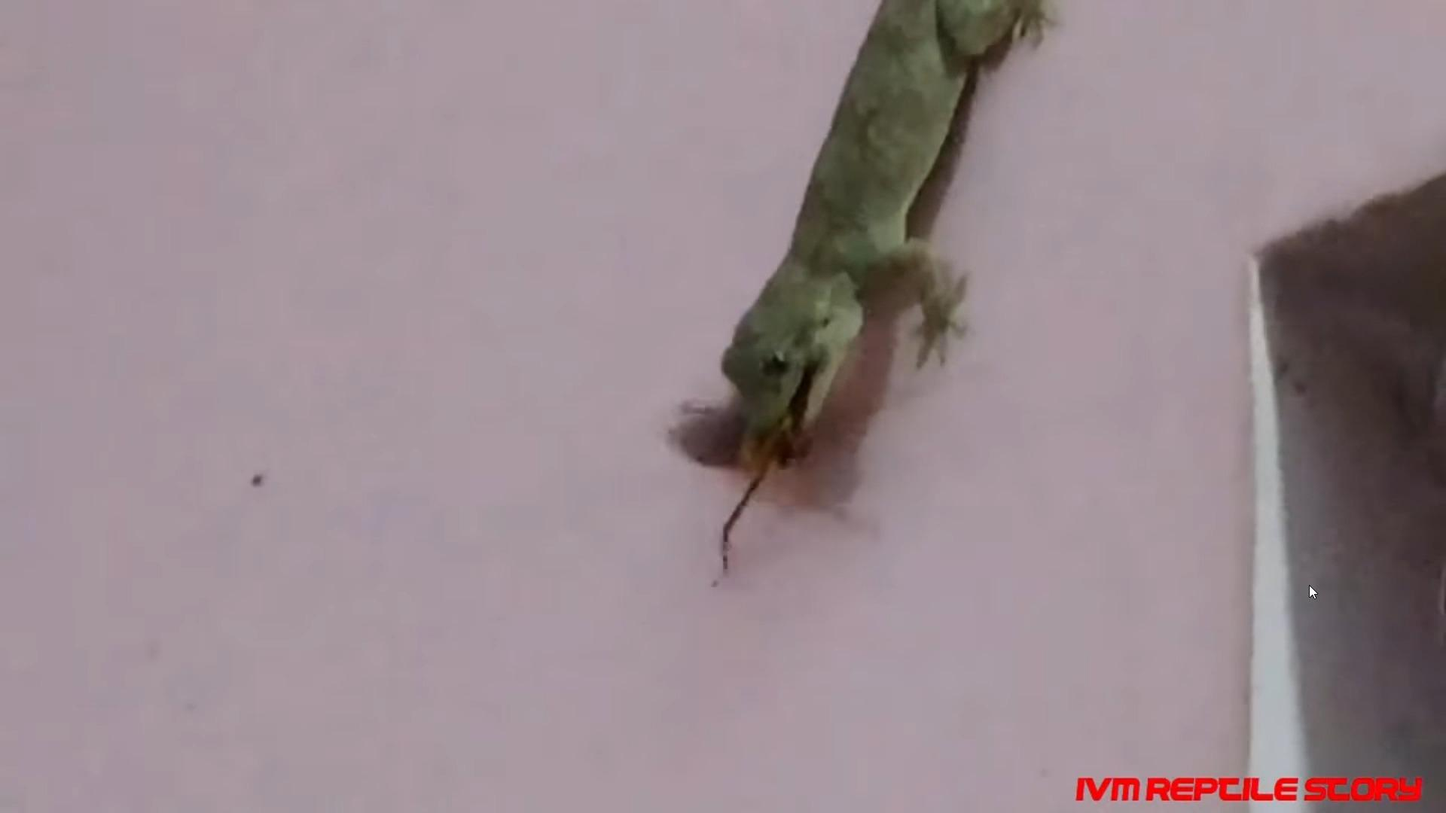cockroach: (654, 395, 819, 534)
lizard: (716, 7, 998, 445)
